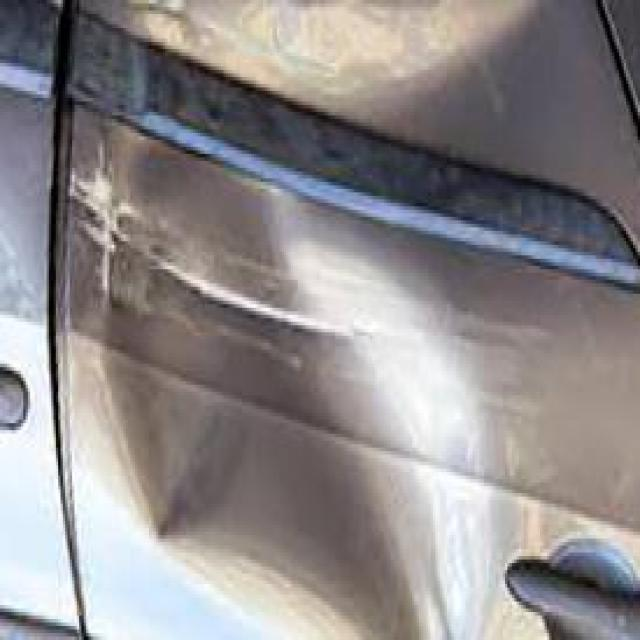dent: (95, 105, 484, 640)
